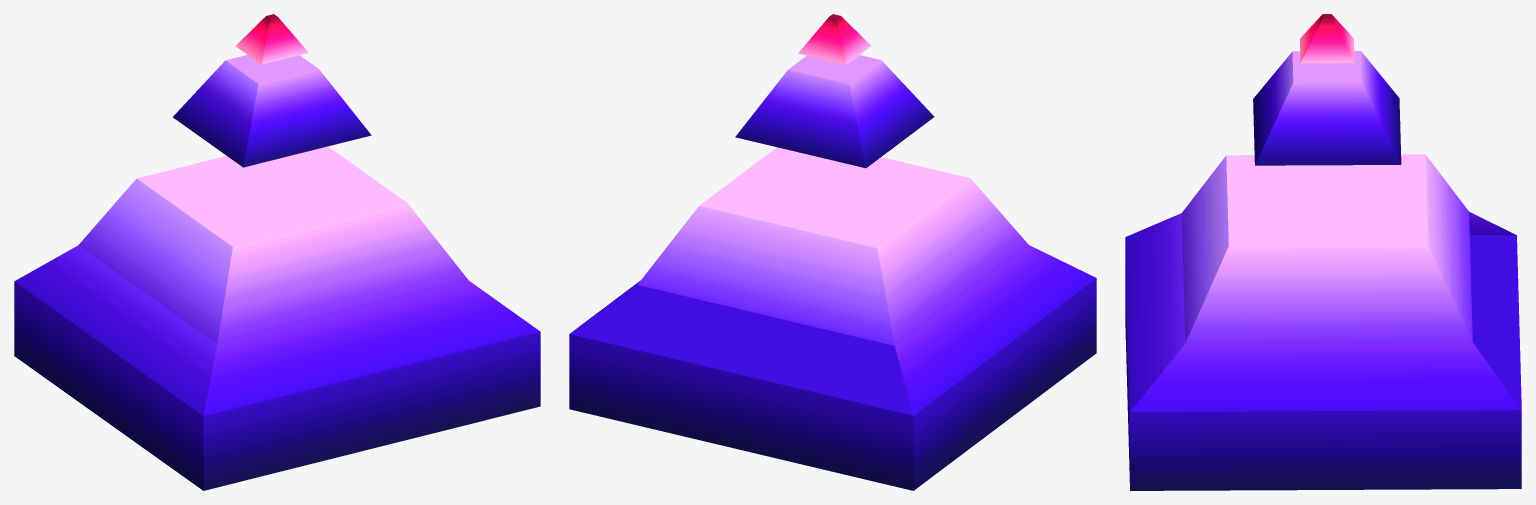
3 renders of one model, left to right at view 1: azimuth 30°, elevation 25°; view 2: azimuth 150°, elevation 25°; view 3: azimuth 270°, elevation 25°, orthographic. The views are drawn at different scales.
Parts seen in each view (by area): view 1: Cube.002; view 2: Cube.002; view 3: Cube.002.
Part boxes in pixels (x1,y1,x2,y2): Cube.002: (14,14,540,490); Cube.002: (569,14,1096,490); Cube.002: (1125,14,1521,490).
Size of the model in its own units: 37.75 by 38.3 by 35.79.
1 material, 1 textured.
